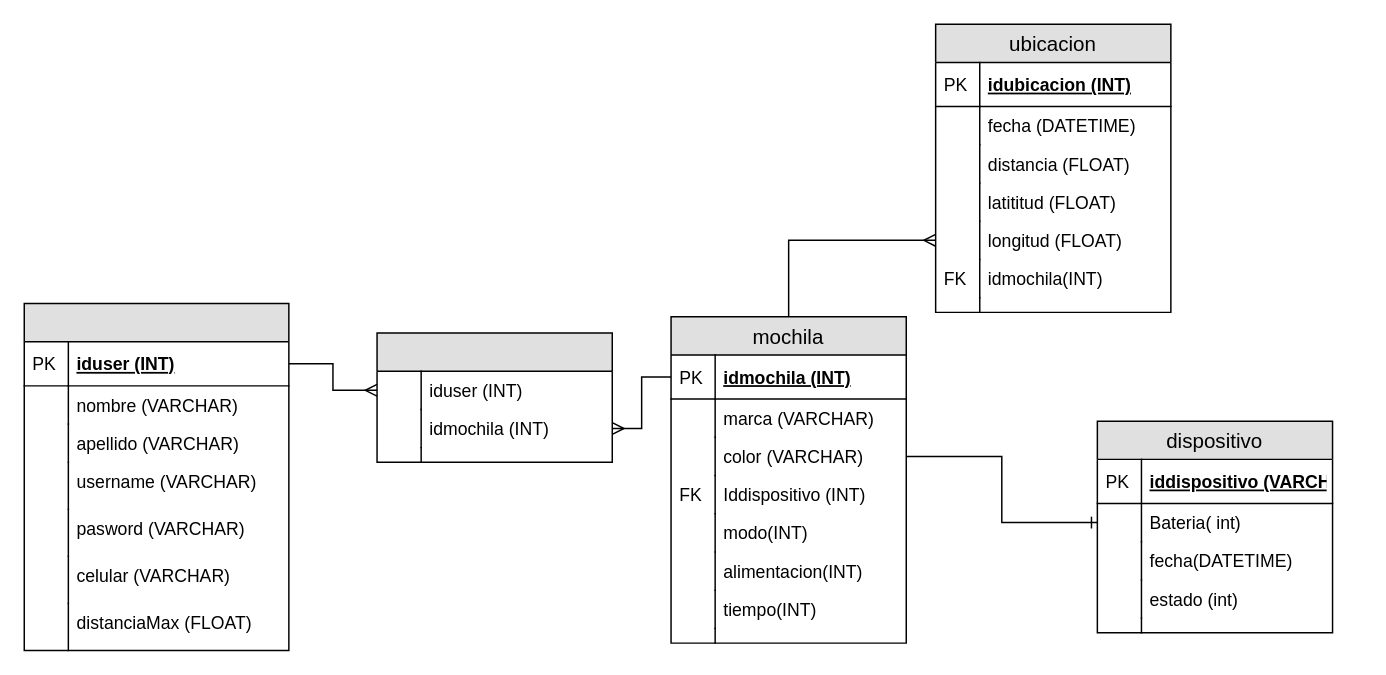
This 1386x675 diagram has some shape labels left out. The shapes that lost their labels are listed below. From the top down, each one's box as (x1, y1, x2, y2) in pixels, then its label:
(376, 331, 612, 462): usuario_mochila
(23, 302, 289, 650): usuario
